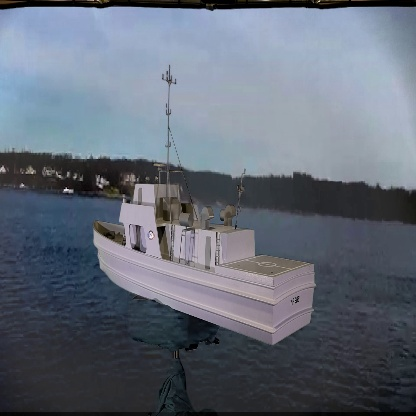YP689: (92, 70, 316, 347)
